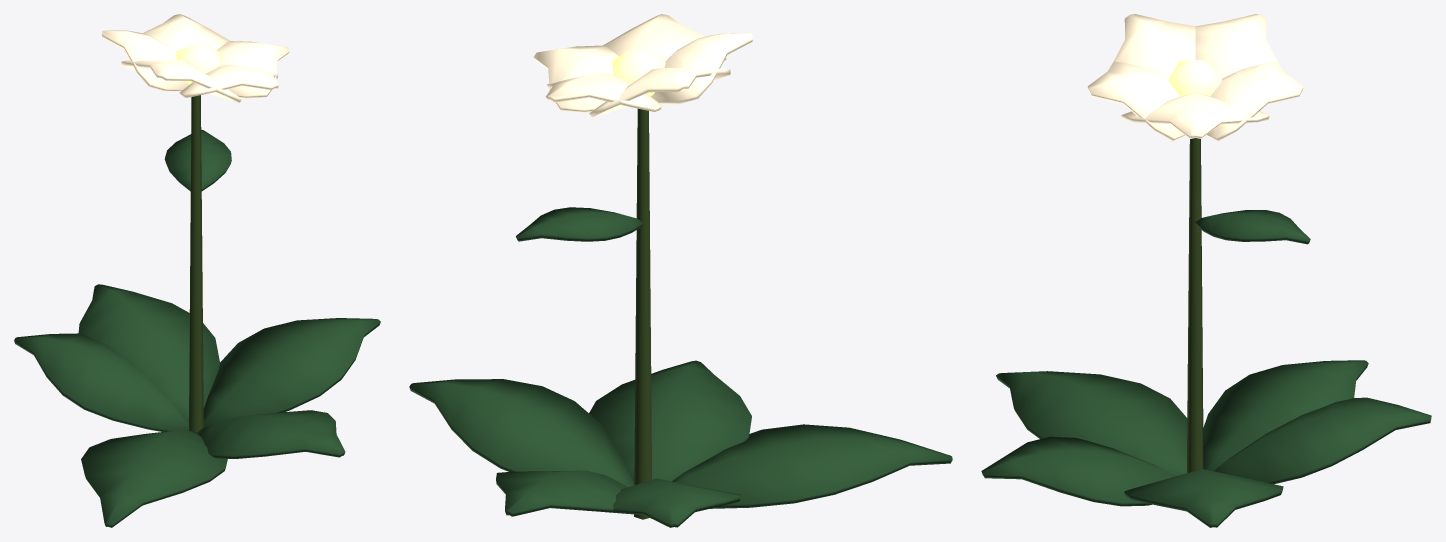
The model's file is flora_cup.glb.
3 views of the same model, side by side, from view 1: azimuth 30°, elevation 25°; view 2: azimuth 150°, elevation 25°; view 3: azimuth 270°, elevation 25° (orthographic). The views are drawn at different scales.
Visible parts, largest first — view 1: leaf_deep, petal_ivory, stem, glow_core; view 2: leaf_deep, petal_ivory, stem, glow_core; view 3: leaf_deep, petal_ivory, stem, glow_core.
Part boxes in pixels (box(x1,y1,x2,y2)): leaf_deep: box(14, 129, 380, 527); petal_ivory: box(102, 14, 289, 102); stem: box(189, 95, 203, 432); glow_core: box(176, 41, 222, 84); leaf_deep: box(409, 207, 952, 527); petal_ivory: box(534, 14, 752, 117); stem: box(634, 108, 651, 519); glow_core: box(612, 46, 665, 96); leaf_deep: box(981, 210, 1431, 527); petal_ivory: box(1087, 14, 1303, 140); stem: box(1187, 138, 1203, 472); glow_core: box(1169, 60, 1221, 96).
Bounding box in the file's own units: 0.7696 × 0.8111 × 0.7335.
